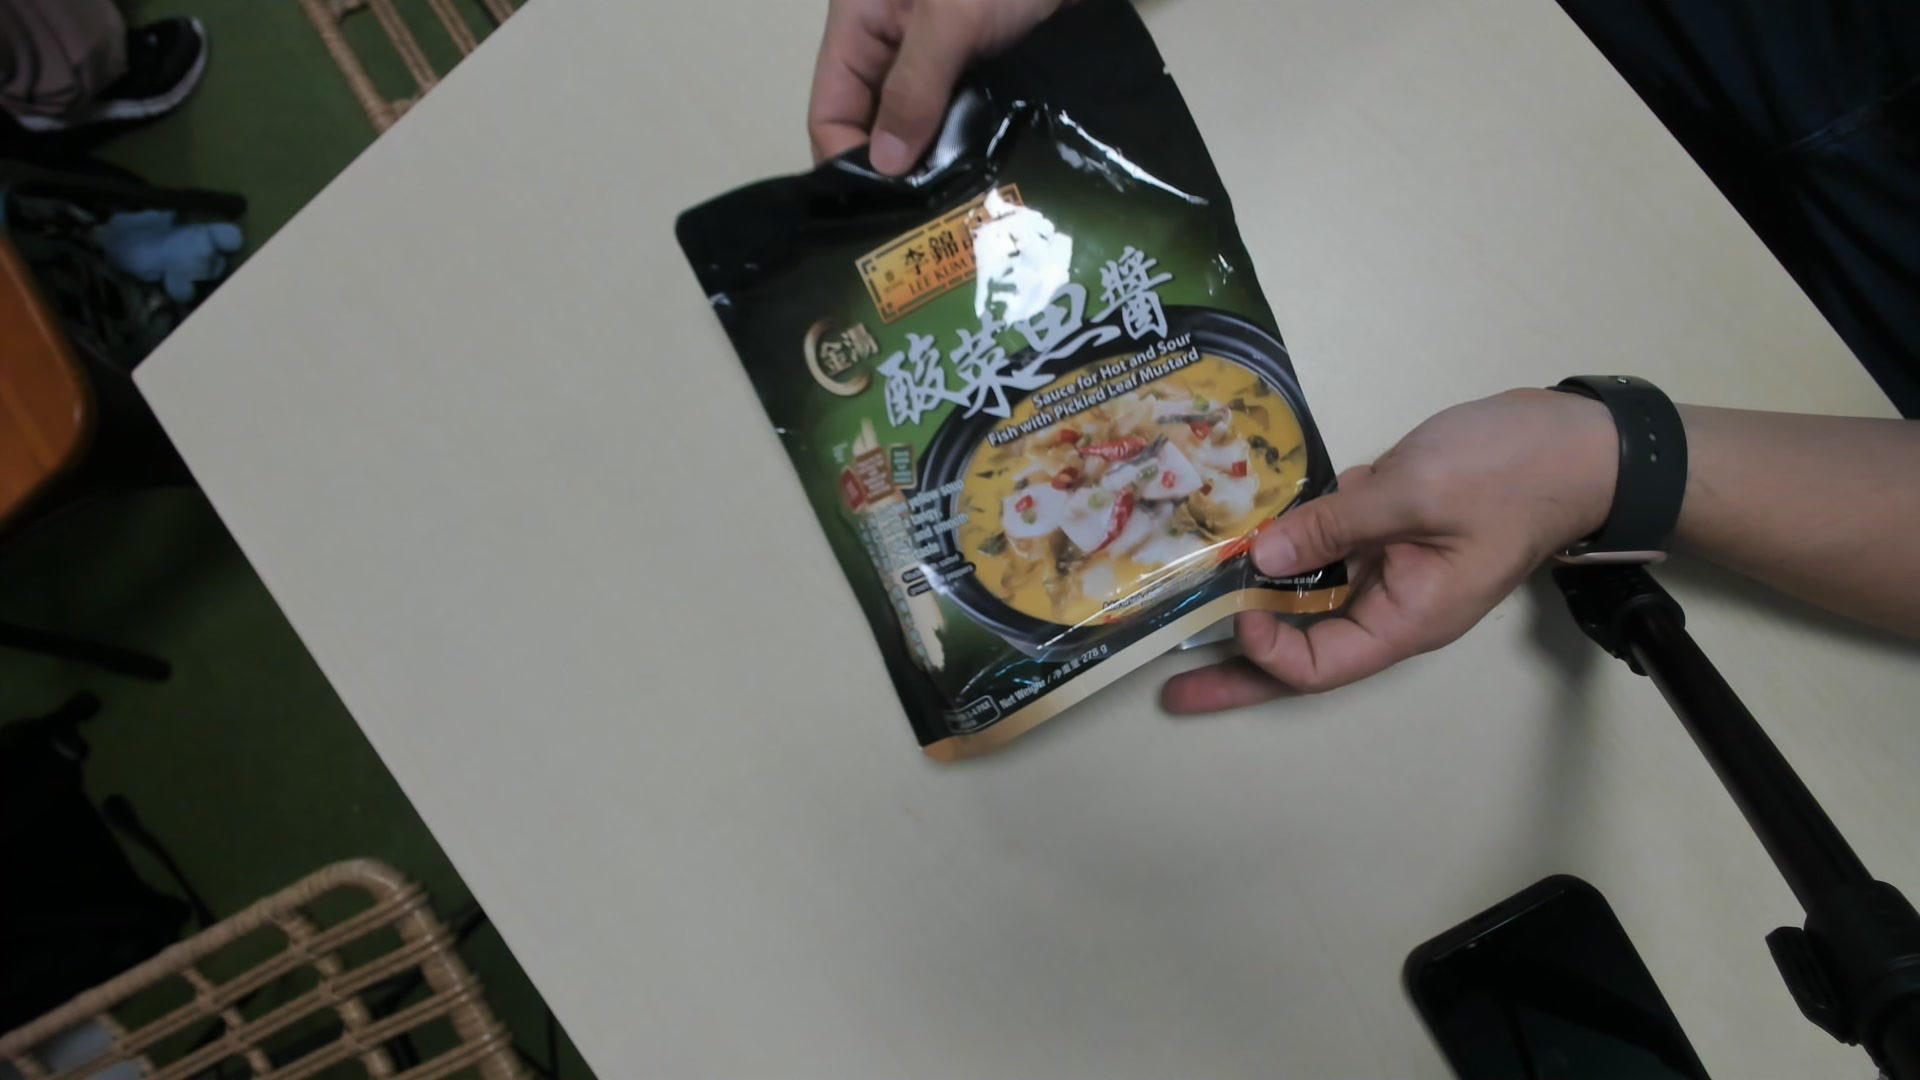OtherSauceDressing_200-299g_NonHalal_NonHealthy: (711, 18, 1353, 771)
